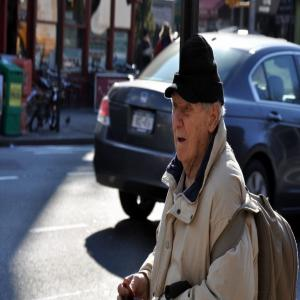Vehicle-registration-plate: (131, 109, 157, 135)
